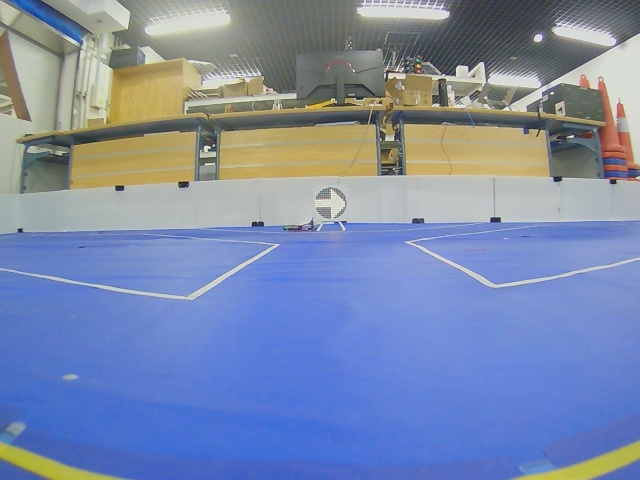right_yellow: (315, 187, 347, 221)
